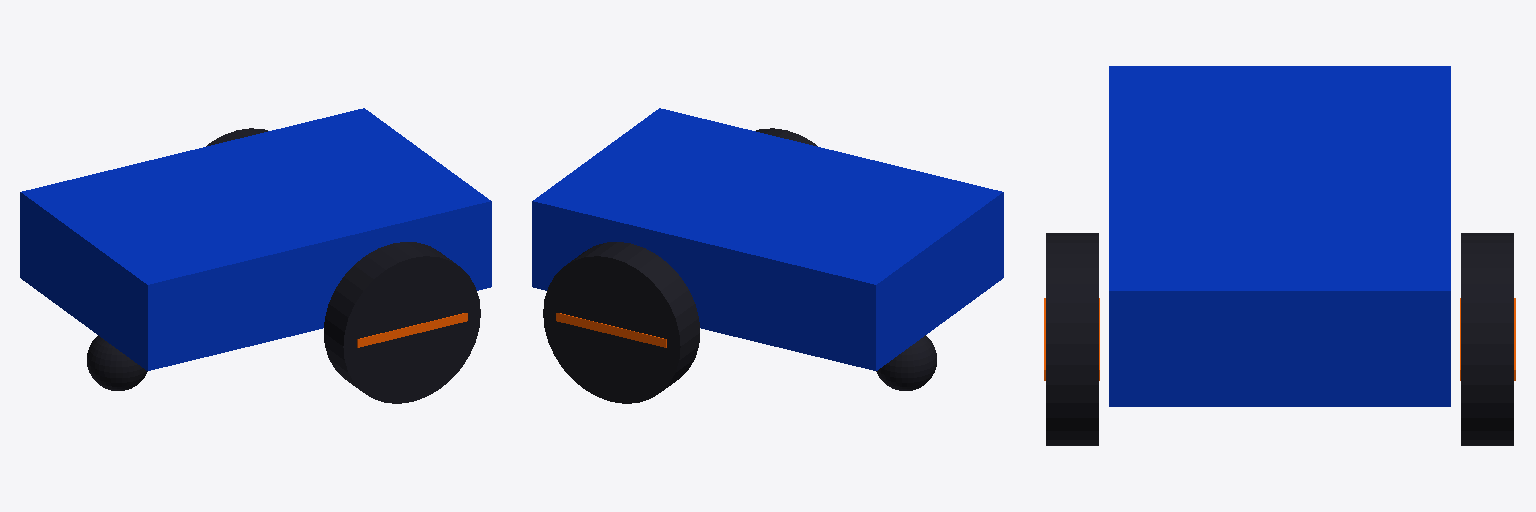
The robot description file, URDF, robot "my_first_model":
<?xml version="1.0"?>
<robot name="my_first_model">
<material name="blue"><color rgba="0.05 0.25 0.8 1"/></material>
<material name="grey"><color rgba="0.15 0.15 0.18 1"/></material>
<material name="orange"><color rgba="1 0.42 0.04 1"/></material>
<material name="red"><color rgba="0.8 0.05 0.05 1"/></material>
<material name="white"><color rgba="0.9 0.9 0.9 1"/></material>
<link name="base_footprint"/>
<link name="base_link">
 <visual><geometry><box size="0.50 0.32 0.12"/></geometry><material name="blue"/></visual>
 <collision><geometry><box size="0.50 0.32 0.12"/></geometry></collision>
</link>
<joint name="base_joint" type="fixed"><parent link="base_footprint"/><child link="base_link"/><origin xyz="0 0 0.16"/></joint>
<link name="caster_link"><visual><geometry><sphere radius="0.04"/></geometry><material name="grey"/></visual><collision><geometry><sphere radius="0.04"/></geometry></collision></link>
<joint name="caster_joint" type="fixed"><parent link="base_link"/><child link="caster_link"/><origin xyz="-0.20 0 -0.12"/></joint>
<link name="wheel_left">
  <visual><origin rpy="1.5707963267948966 0 0"/><geometry><cylinder radius="0.1" length="0.05"/></geometry><material name="grey"/></visual>
  <collision><origin rpy="1.5707963267948966 0 0"/><geometry><cylinder radius="0.1" length="0.05"/></geometry></collision>
</link>
<joint name="wheel_left_joint" type="continuous"><parent link="base_link"/><child link="wheel_left"/><origin xyz="0.10 0.195 -0.06"/><axis xyz="0 1 0"/></joint>
<!-- A visible radial spoke makes rotation observable in RViz. -->
<link name="spoke_left"><visual><geometry><box size="0.16 0.052 0.012"/></geometry><material name="orange"/></visual></link>
<joint name="spoke_left_joint" type="fixed"><parent link="wheel_left"/><child link="spoke_left"/></joint>
<link name="wheel_right">
  <visual><origin rpy="1.5707963267948966 0 0"/><geometry><cylinder radius="0.1" length="0.05"/></geometry><material name="grey"/></visual>
  <collision><origin rpy="1.5707963267948966 0 0"/><geometry><cylinder radius="0.1" length="0.05"/></geometry></collision>
</link>
<joint name="wheel_right_joint" type="continuous"><parent link="base_link"/><child link="wheel_right"/><origin xyz="0.10 -0.195 -0.06"/><axis xyz="0 1 0"/></joint>
<!-- A visible radial spoke makes rotation observable in RViz. -->
<link name="spoke_right"><visual><geometry><box size="0.16 0.052 0.012"/></geometry><material name="orange"/></visual></link>
<joint name="spoke_right_joint" type="fixed"><parent link="wheel_right"/><child link="spoke_right"/></joint>
</robot>

--- What the picture shows (computed from the rendered views, not written in the file) ---
The picture shows the robot from 3 angles, left to right: view 1: azimuth 30°, elevation 25°; view 2: azimuth 150°, elevation 25°; view 3: azimuth 270°, elevation 25°; orthographic projection.
Robot: my_first_model — 7 links, 6 joints (2 continuous, 4 fixed); root link base_footprint; default pose: every joint at zero.
Links seen in each view (by area): view 1: base_link, wheel_right, caster_link, spoke_right; view 2: base_link, wheel_left, caster_link, spoke_left; view 3: base_link, wheel_left, wheel_right.
Link boxes in pixels (x1,y1,x2,y2): base_link: (20,108,491,370); wheel_right: (324,242,480,403); caster_link: (87,335,147,390); spoke_right: (357,313,467,347); base_link: (532,108,1003,370); wheel_left: (543,242,699,403); caster_link: (876,335,936,390); spoke_left: (556,313,666,347); base_link: (1109,66,1450,406); wheel_left: (1461,233,1513,445); wheel_right: (1046,233,1098,445).
Size in the robot's own frame: 0.5 by 0.442 by 0.22 metres.
Geometry: primitives only (box / cylinder / sphere), no mesh files.
